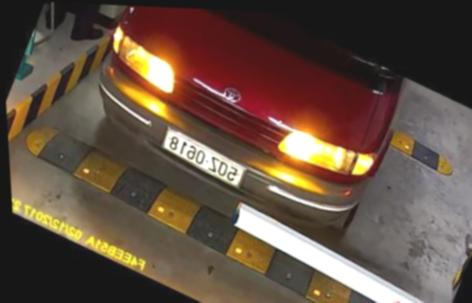License_Plate: (162, 121, 250, 193)
